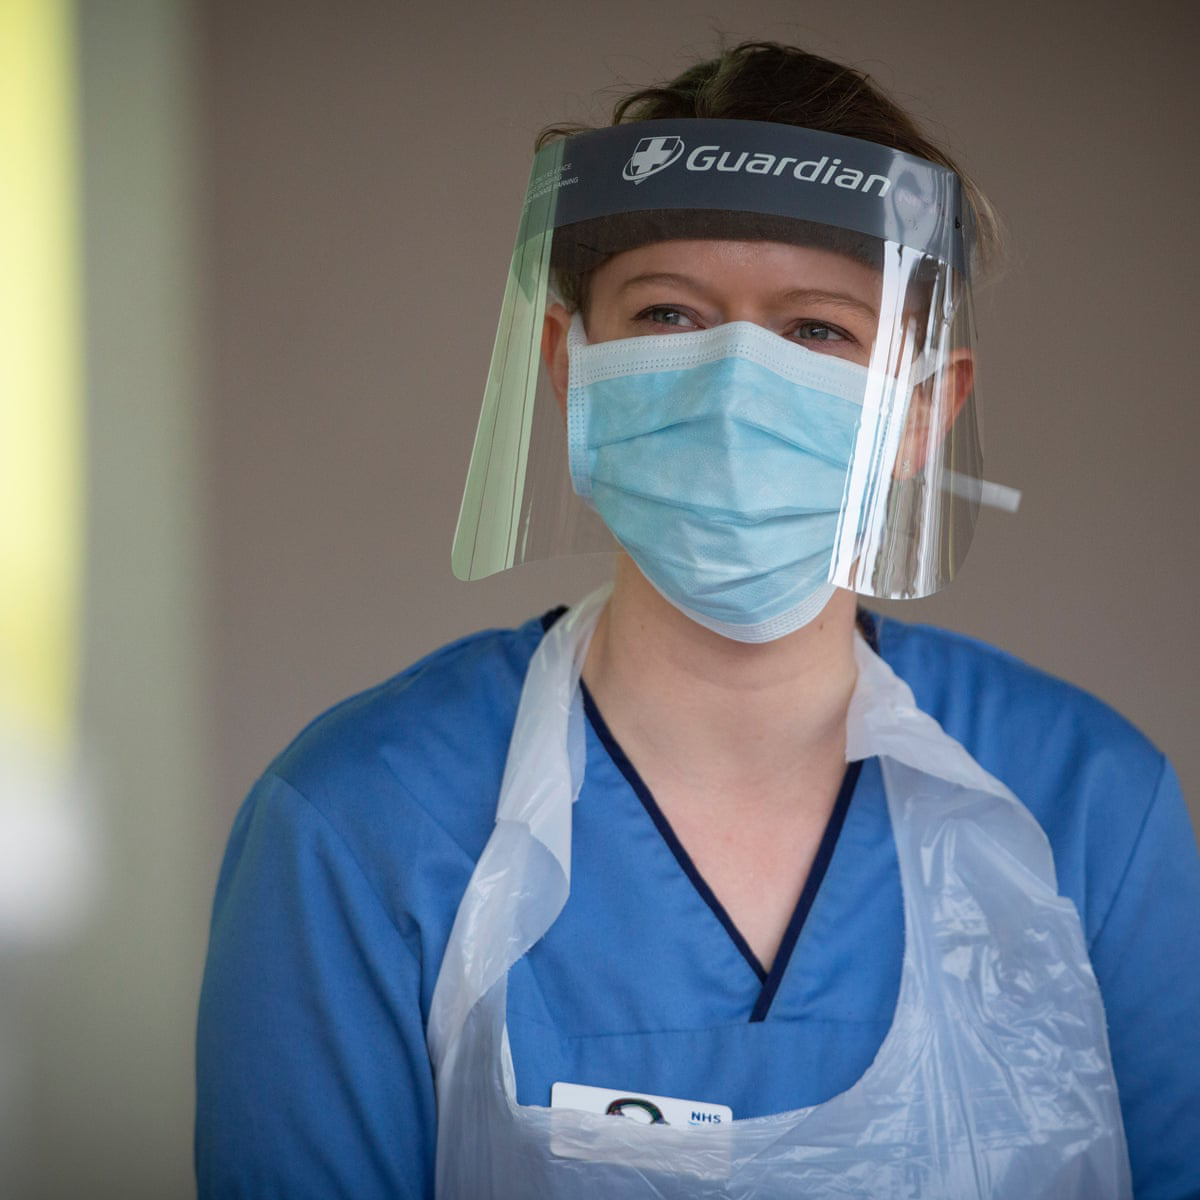Face_Shield: (461, 126, 996, 626)
with_mask: (564, 266, 901, 648)
